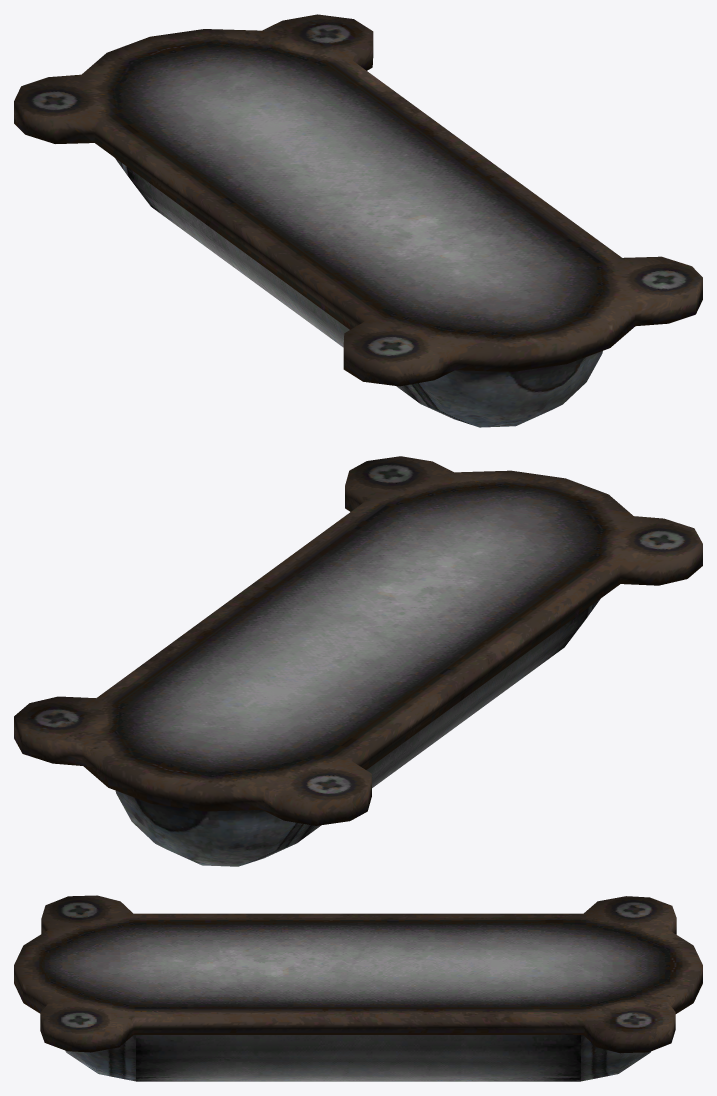
The model's file is lamp_roof_small.dae.
3 renders of one model, top to bottom at view 1: azimuth 30°, elevation 25°; view 2: azimuth 150°, elevation 25°; view 3: azimuth 270°, elevation 25°, orthographic. The views are drawn at different scales.
Parts seen in each view (by area): view 1: polySurface5; view 2: polySurface5; view 3: polySurface5.
Part boxes in pixels (box(x1,y1,x2,y2)): polySurface5: box(14, 14, 702, 427); polySurface5: box(14, 456, 702, 866); polySurface5: box(14, 895, 702, 1081).
Bounding box in the file's own units: 0.1347 × 0.0483 × 0.2811.
